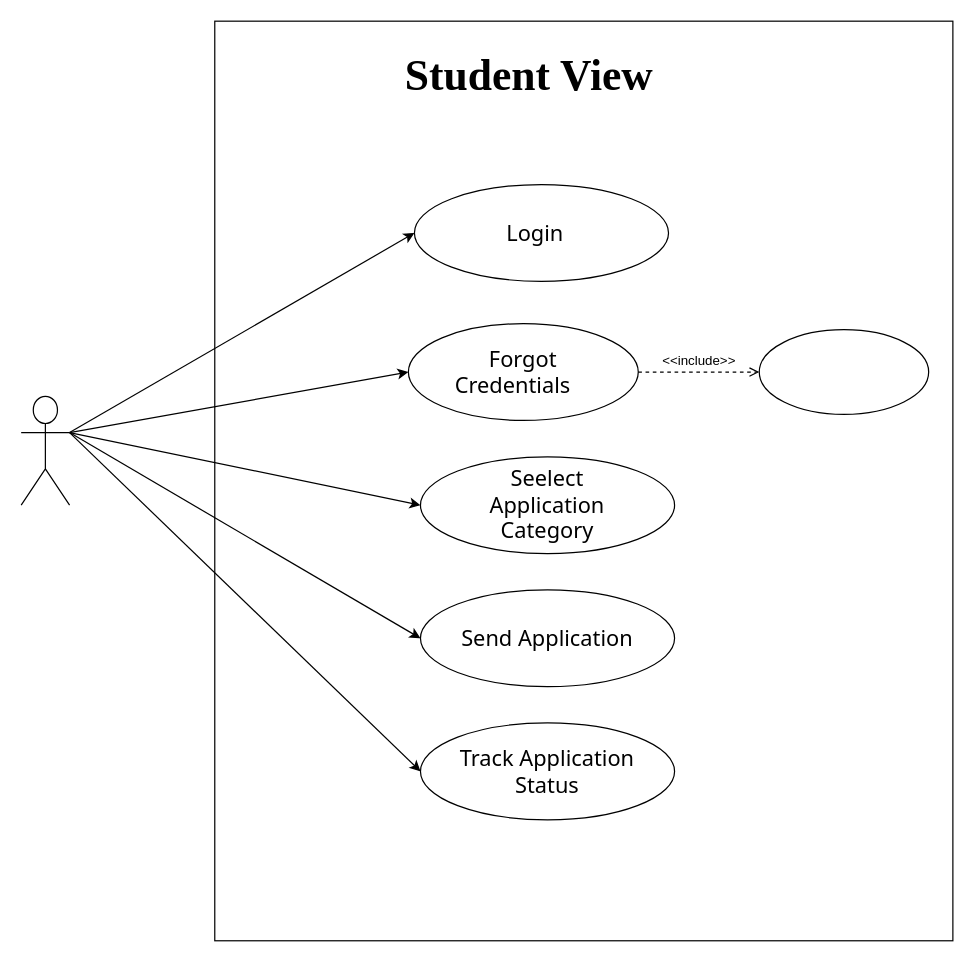
The diagram is 974 pixels wide and 962 high, and some of its shapes have lost their labels. Each missing label, with the box of its shape:
Admin: (20, 395, 70, 505)
Contact Admin: (758, 329, 929, 414)
